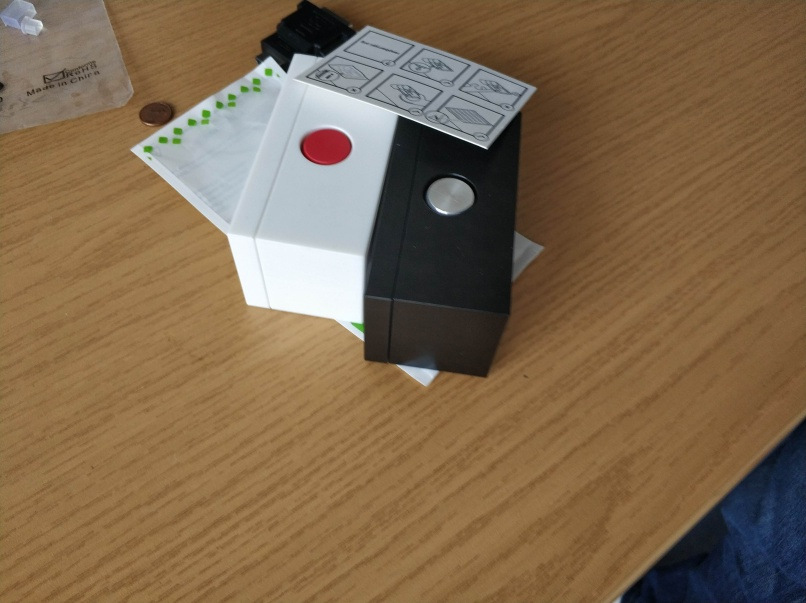black+black+silver: (359, 105, 525, 381)
white+white+red: (224, 50, 397, 328)
